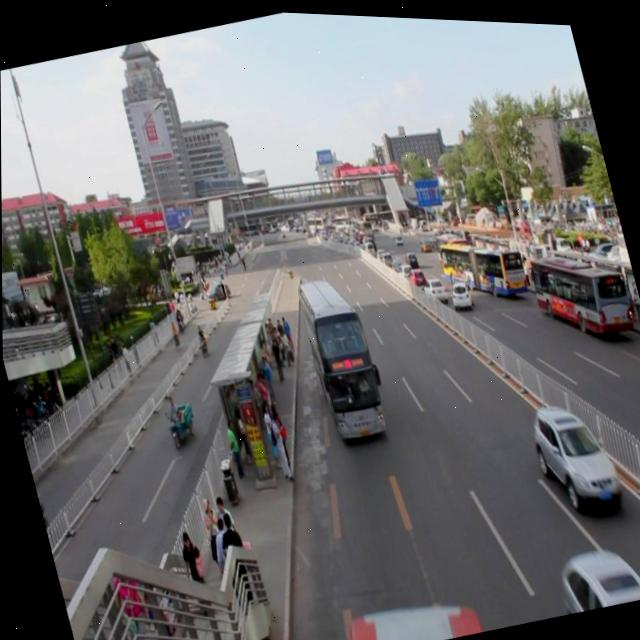car: (520, 384, 626, 520), (548, 528, 640, 612)
van: (290, 265, 395, 449), (332, 577, 484, 640)
